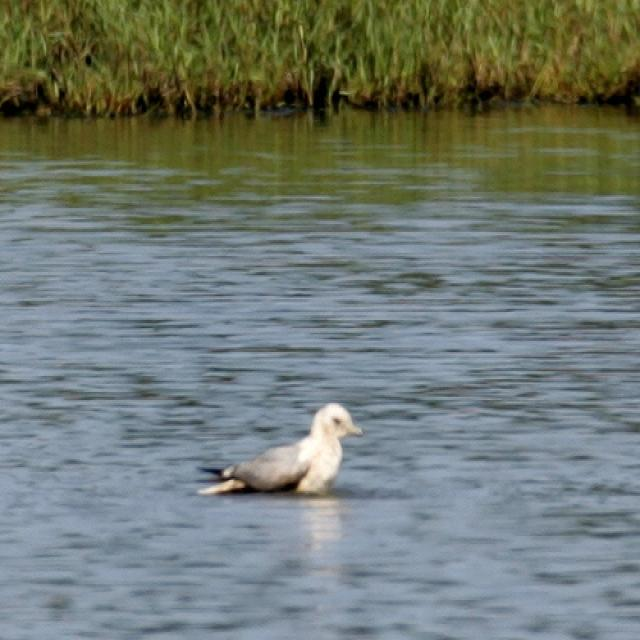bird: (196, 401, 365, 497)
